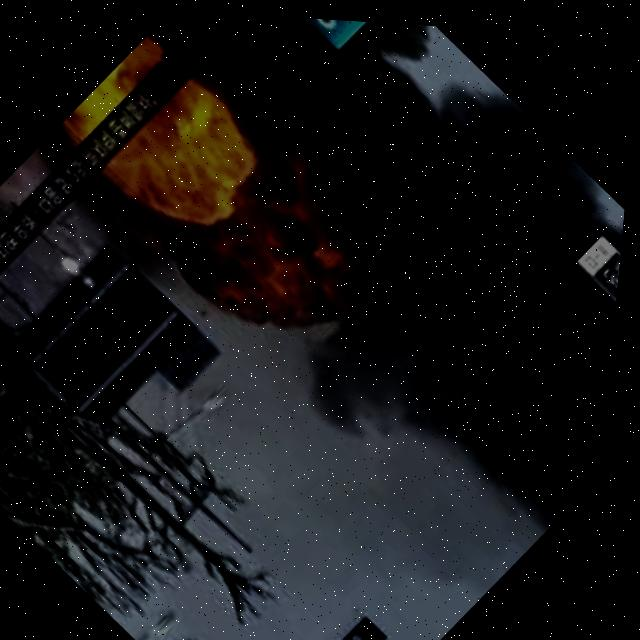Fire: (91, 67, 271, 246), (55, 23, 170, 149)
Smoke: (201, 33, 638, 577)
